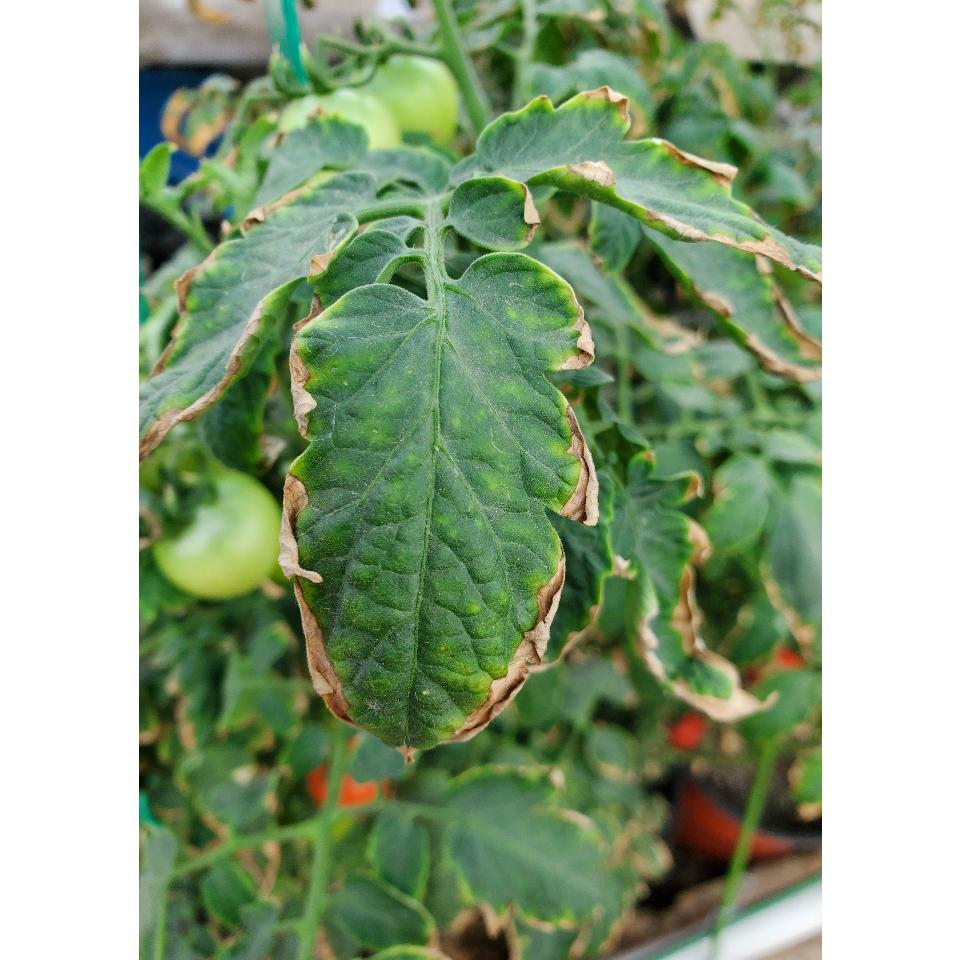tomato_bacterial_blight: (288, 295, 600, 747), (464, 92, 822, 224), (138, 184, 260, 456)
